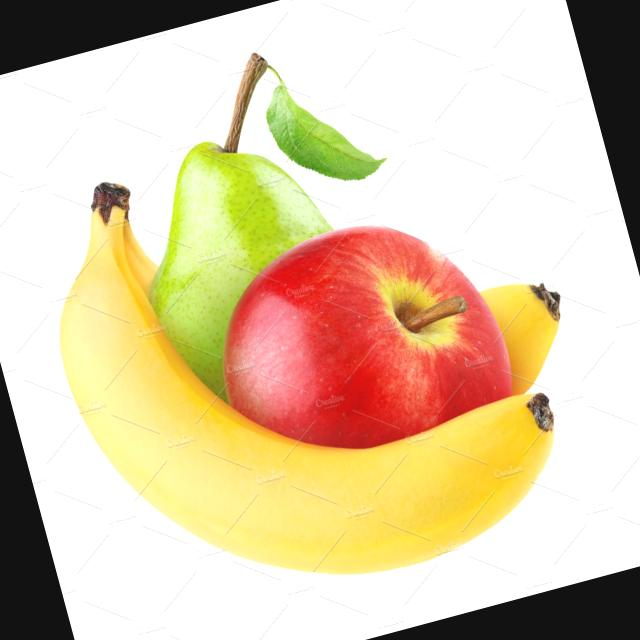apple: (190, 189, 556, 568)
banana: (39, 155, 587, 640)
